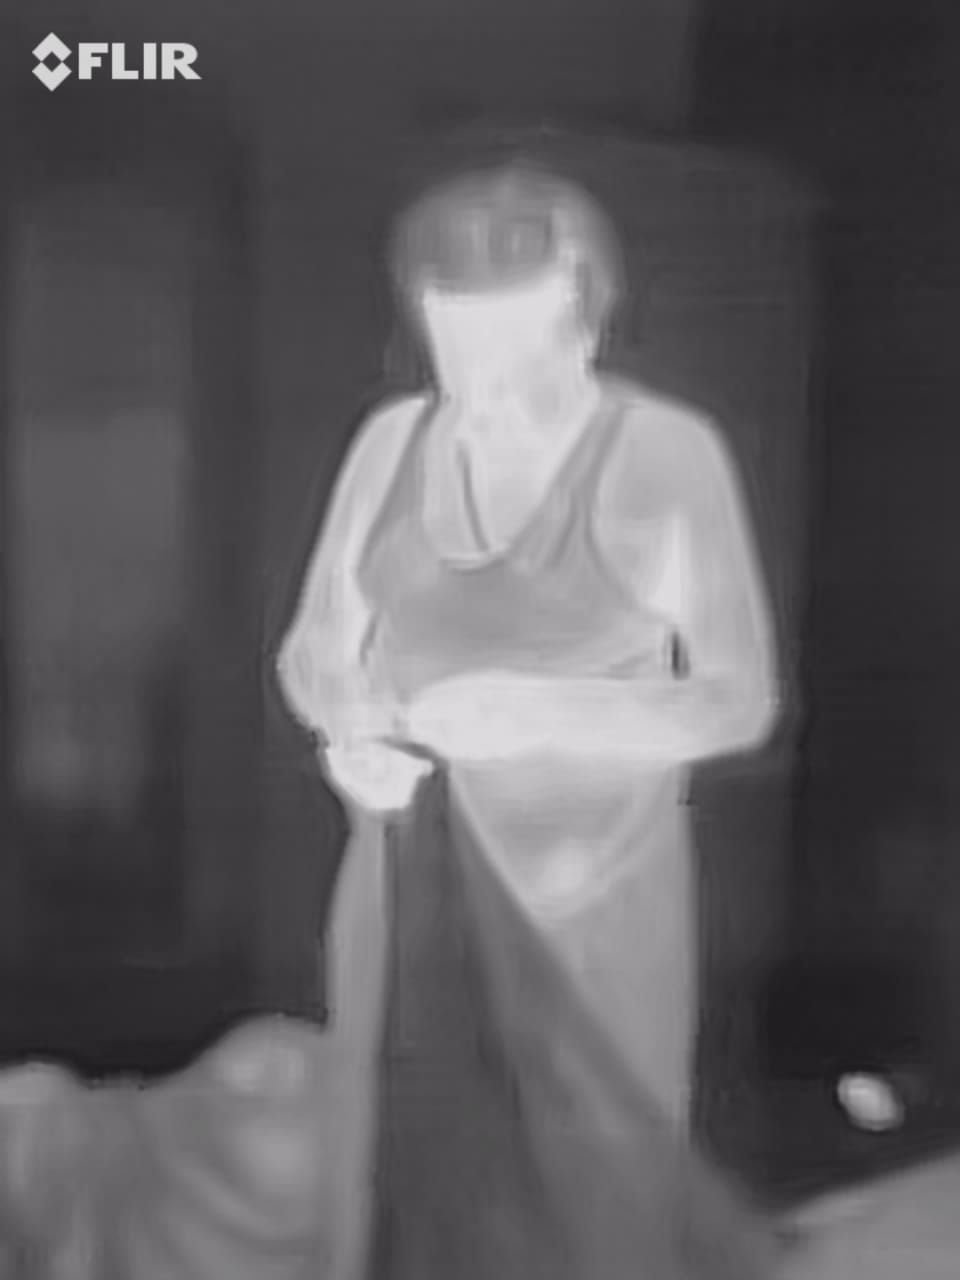head: (383, 168, 636, 472)
